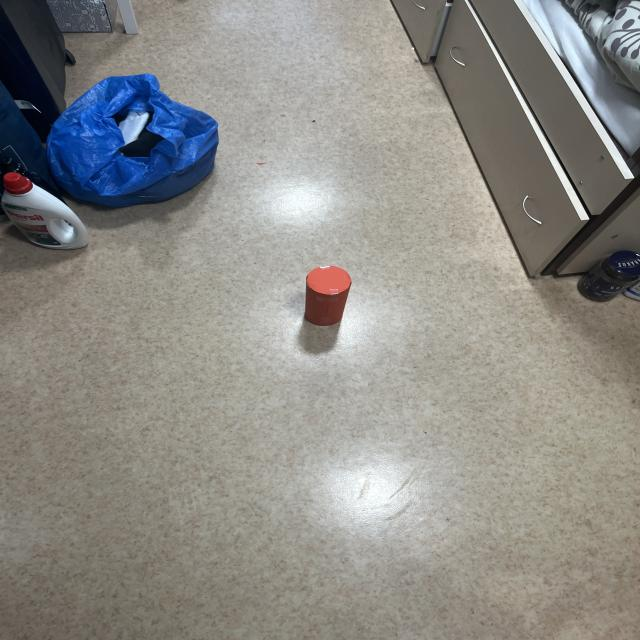przeszkoda: (305, 266, 351, 326)
